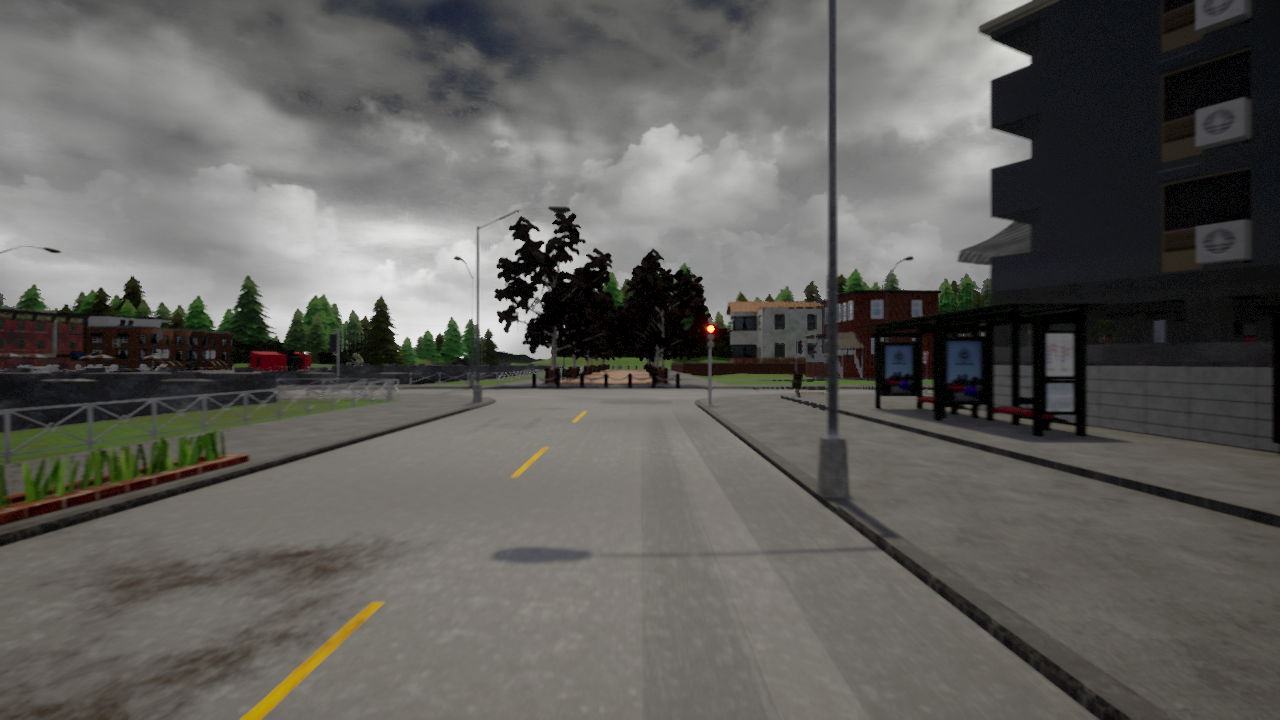red: (705, 323, 716, 350)
